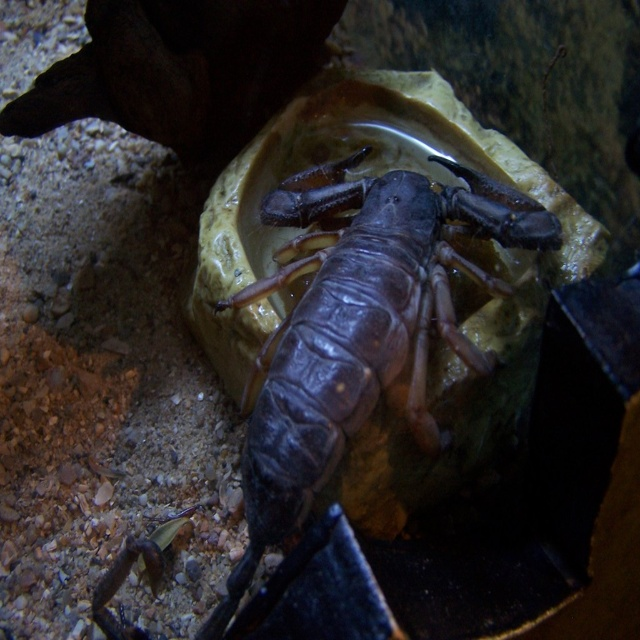Scorpion: (92, 141, 564, 640)
